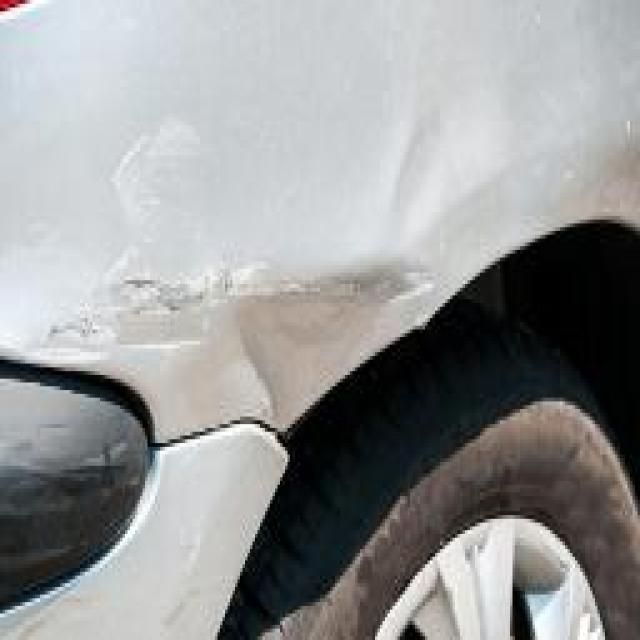Fender: (108, 64, 525, 436)
